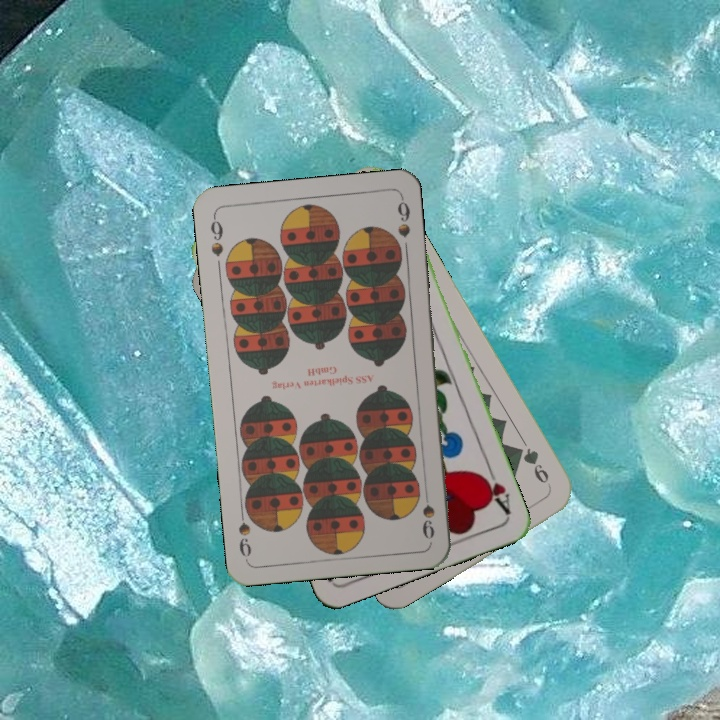G9: (512, 443, 554, 491)
HA: (477, 461, 514, 517)
S9: (418, 483, 437, 542), (206, 212, 226, 259)
